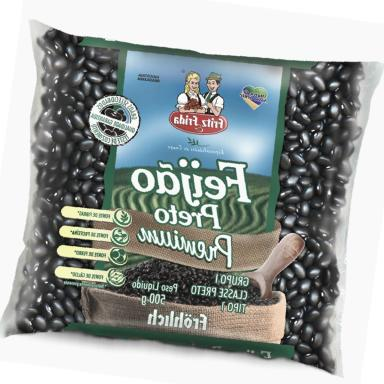beans package: (7, 30, 367, 372)
